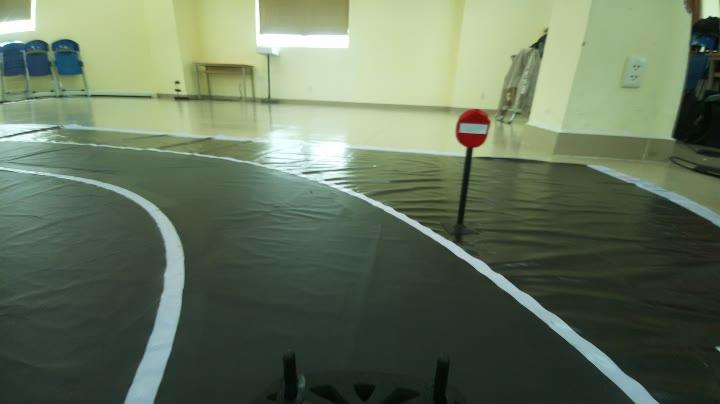no_entry: (443, 102, 495, 152)
